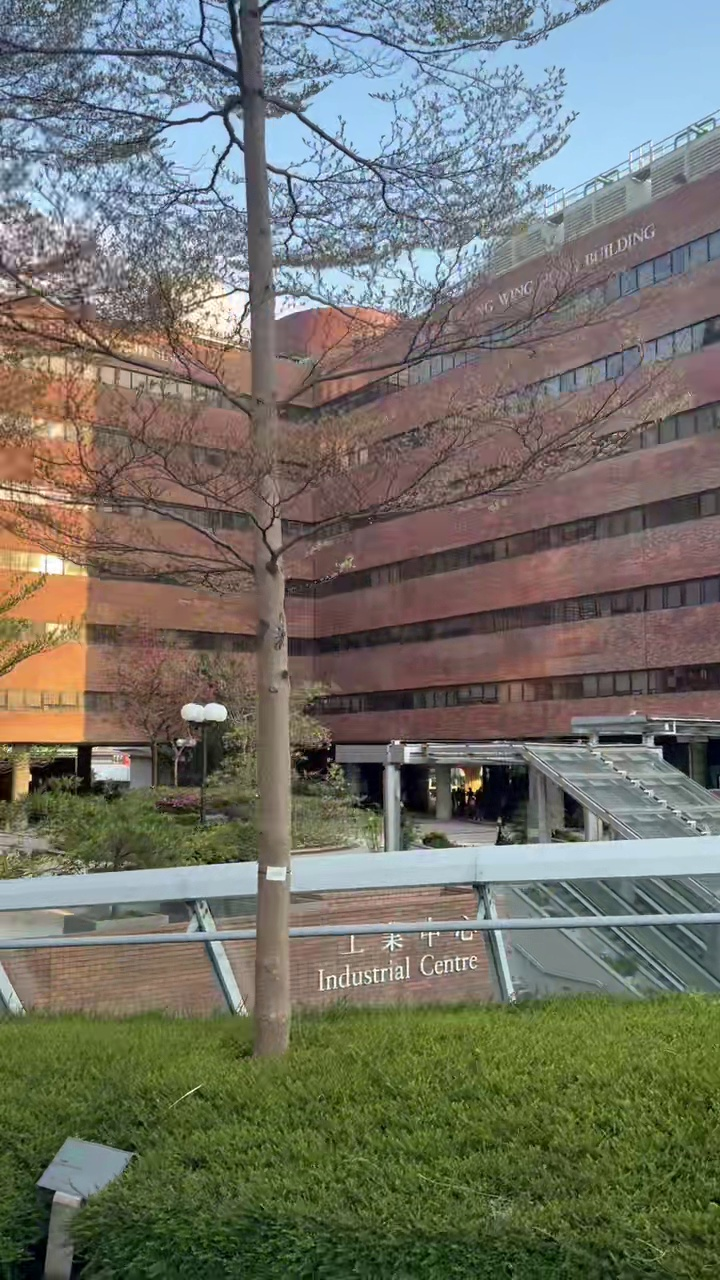Terminalia mantaly: (0, 0, 644, 1055)
